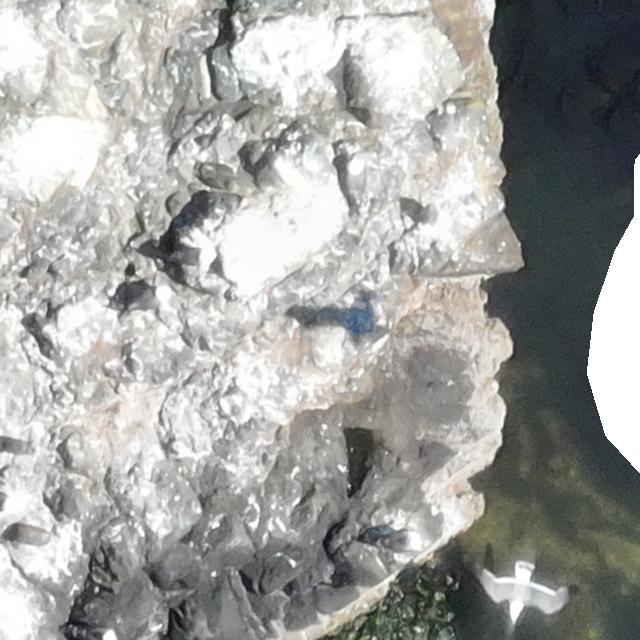F: (486, 554, 560, 627)
umineko: (343, 155, 368, 210), (129, 284, 172, 314), (168, 246, 214, 264)
